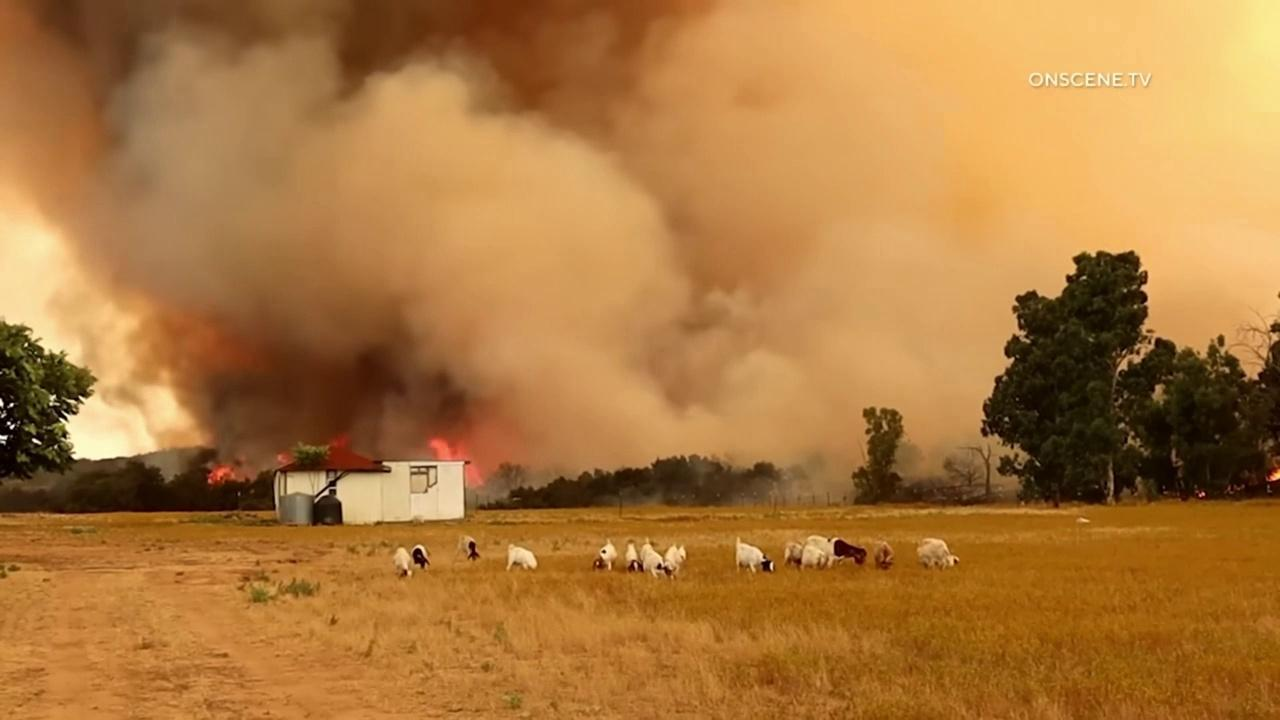fire: (429, 437, 485, 487), (207, 462, 236, 487), (331, 434, 352, 447), (1265, 467, 1280, 483), (277, 451, 294, 463), (1198, 491, 1206, 499)
smoke: (0, 0, 1280, 508)
